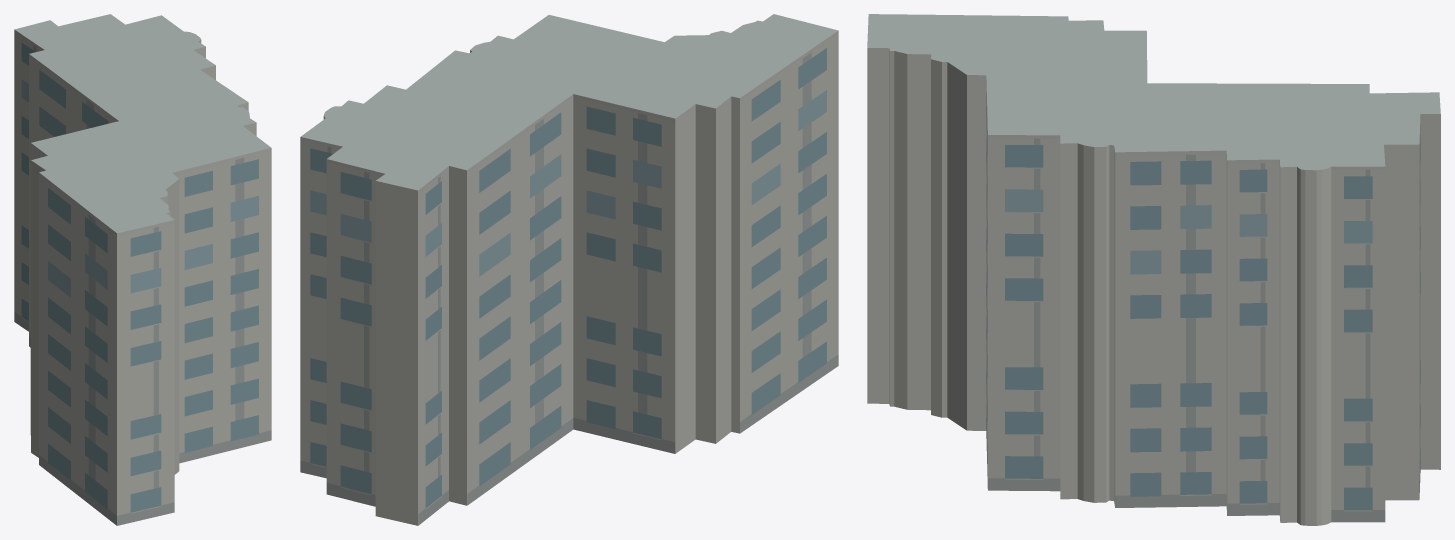
The model's file is survey-upis-32681500.glb.
3 renders of one model, left to right at view 1: azimuth 30°, elevation 25°; view 2: azimuth 150°, elevation 25°; view 3: azimuth 270°, elevation 25°, orthographic. The views are drawn at different scales.
Parts seen in each view (by area): view 1: survey-upis-32681500.tmp; view 2: survey-upis-32681500.tmp; view 3: survey-upis-32681500.tmp.
Boxes of the visible parts, x1=… form: survey-upis-32681500.tmp: x1=14, y1=14, x2=271, y2=525; survey-upis-32681500.tmp: x1=300, y1=14, x2=838, y2=525; survey-upis-32681500.tmp: x1=867, y1=14, x2=1440, y2=525.
Size of the model in its own units: 22.98 by 24.4 by 35.66.
